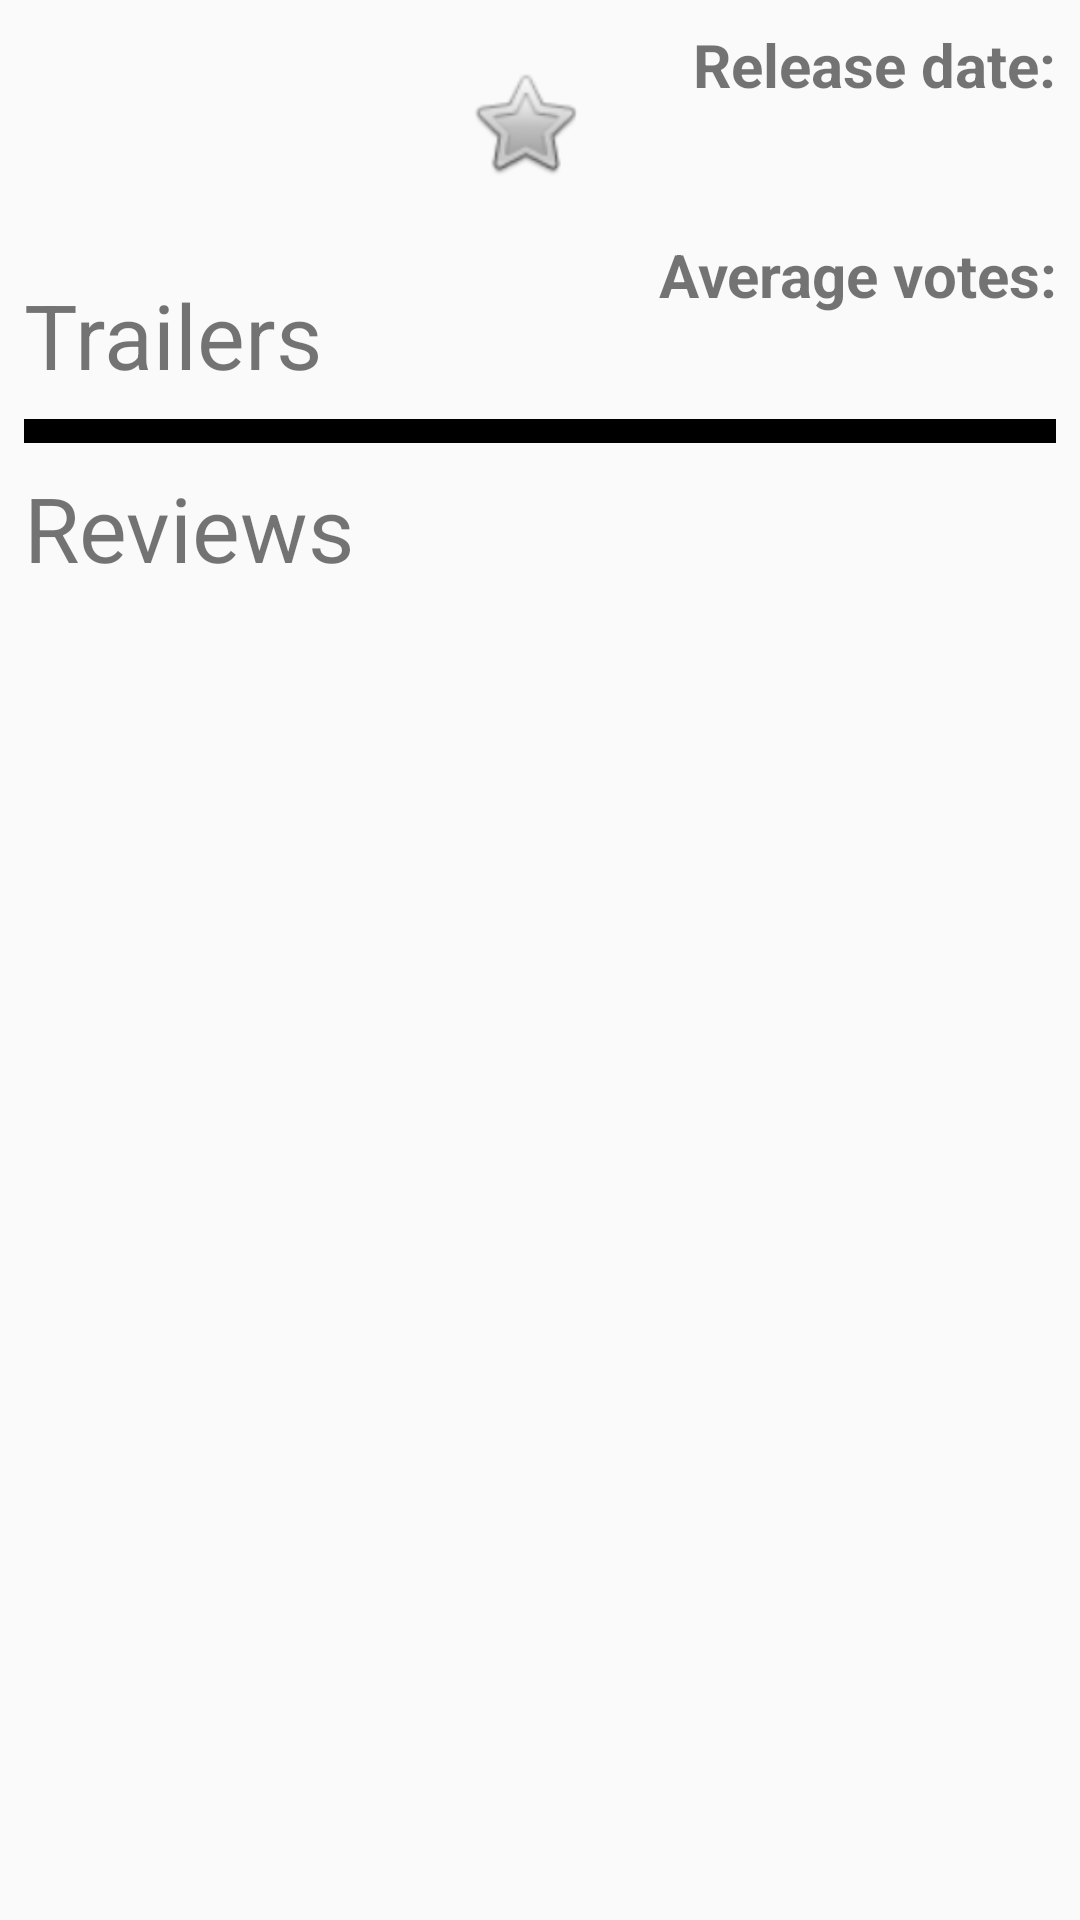

Locate icon controls on the screen. Image size 1080 x 1920, boxes as bbox=(x1, y1, x2, y2).
star off: bbox=(476, 75, 576, 173)
